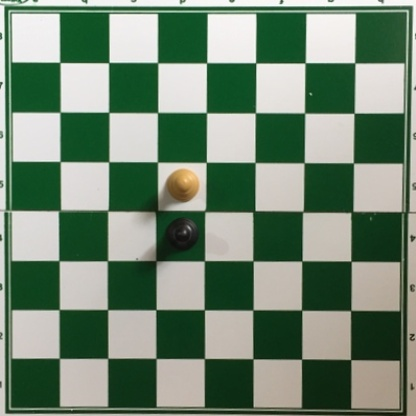black-pawn: (164, 217, 199, 253)
white-pawn: (164, 166, 200, 203)
